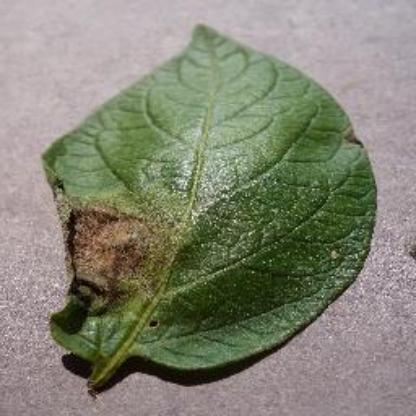Late-Blight: (37, 20, 383, 396)
